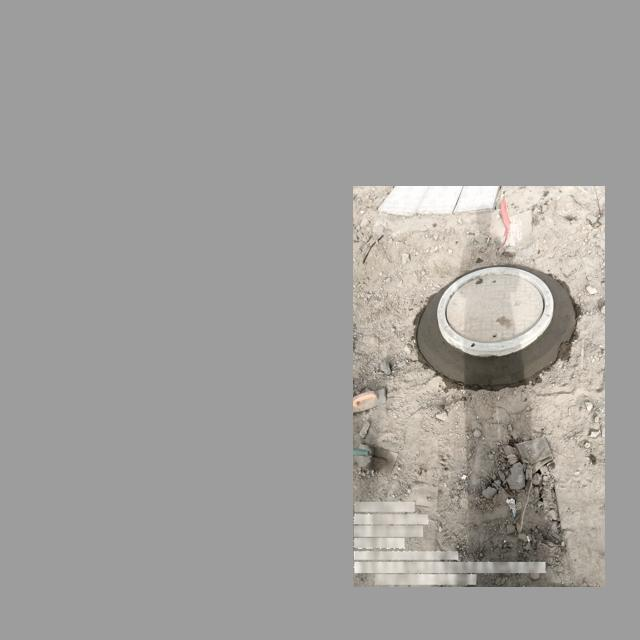good: (436, 266, 554, 356)
